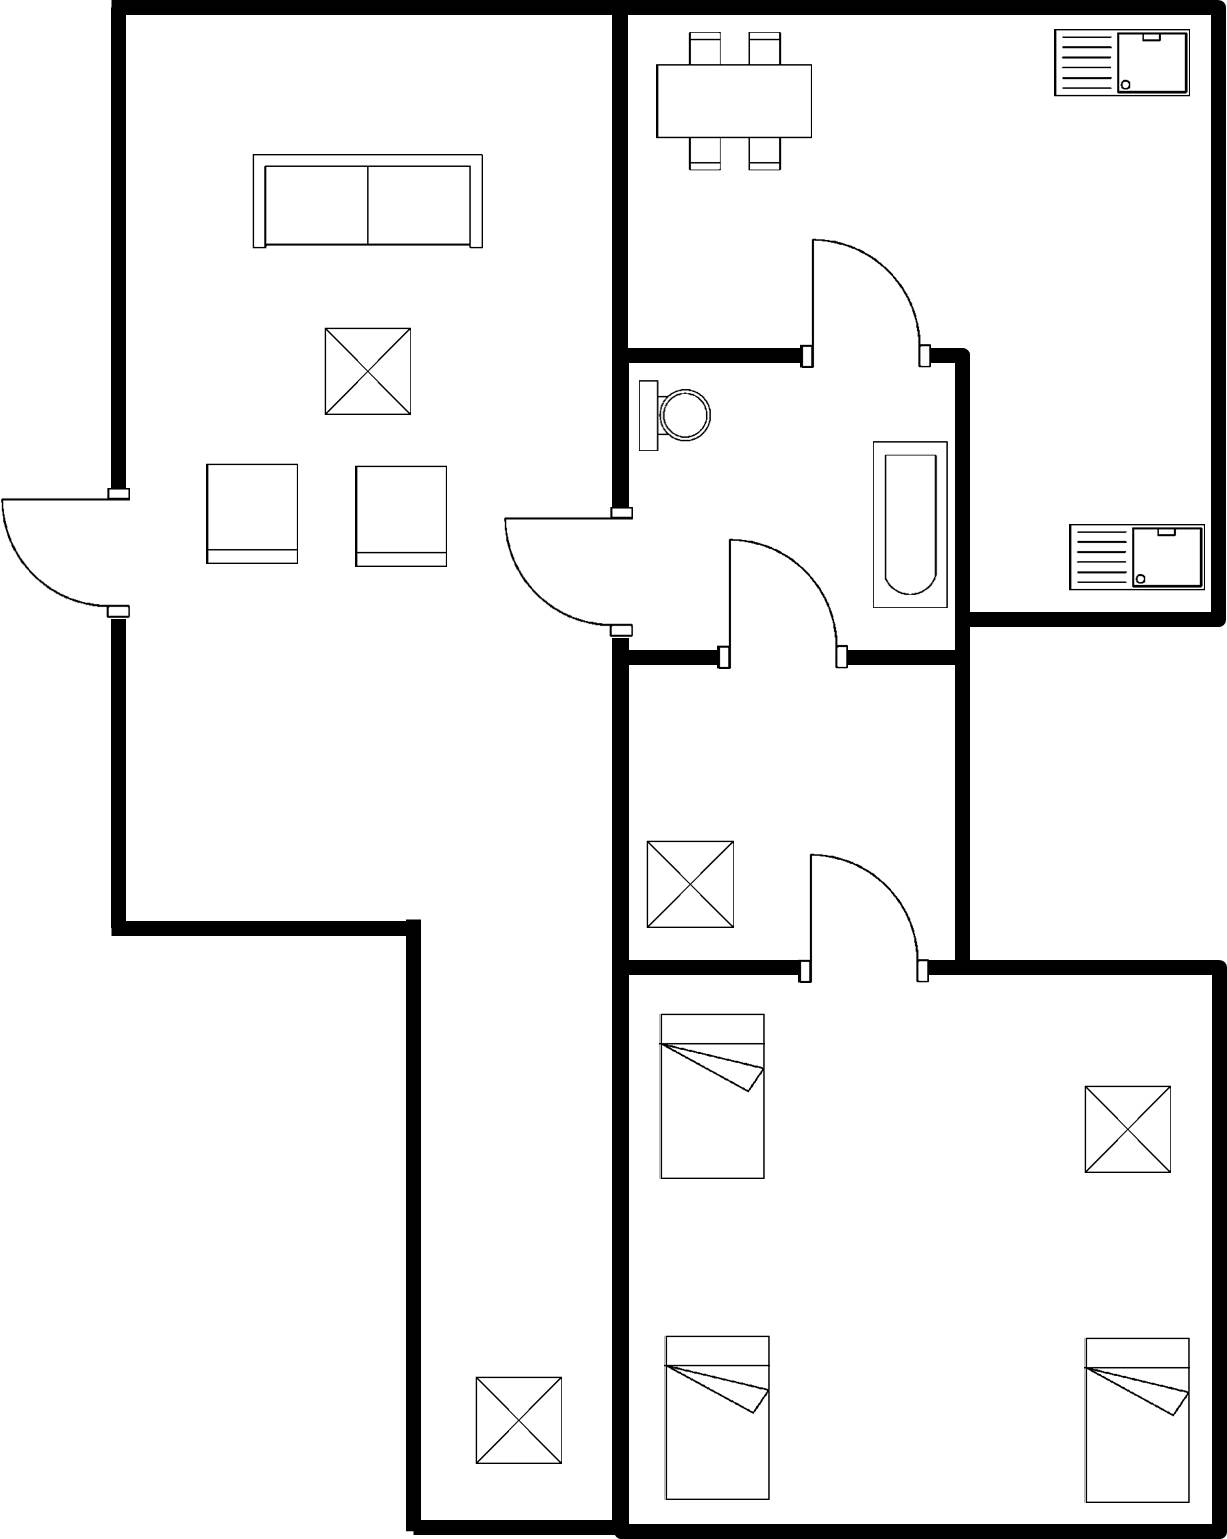bed: (646, 1000, 775, 1195), (1077, 1329, 1202, 1517), (653, 1326, 780, 1512)
coffee_table: (462, 1366, 575, 1480), (1075, 1072, 1181, 1190), (635, 830, 747, 939), (316, 312, 420, 427)
dining_table: (644, 24, 825, 183)
large_sink: (629, 371, 716, 465)
large_sofa: (243, 144, 498, 263)
sink: (1058, 511, 1214, 605), (1044, 21, 1201, 112)
small_sofa: (343, 456, 458, 580), (196, 453, 310, 577)
tub: (863, 424, 956, 620)
